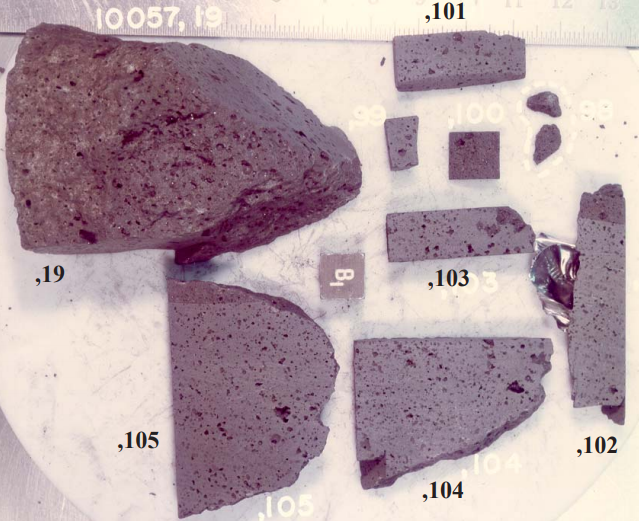Basalt: (48, 33, 343, 223), (160, 286, 342, 497), (362, 324, 544, 469), (556, 197, 634, 409), (394, 179, 556, 263), (391, 44, 542, 81)
